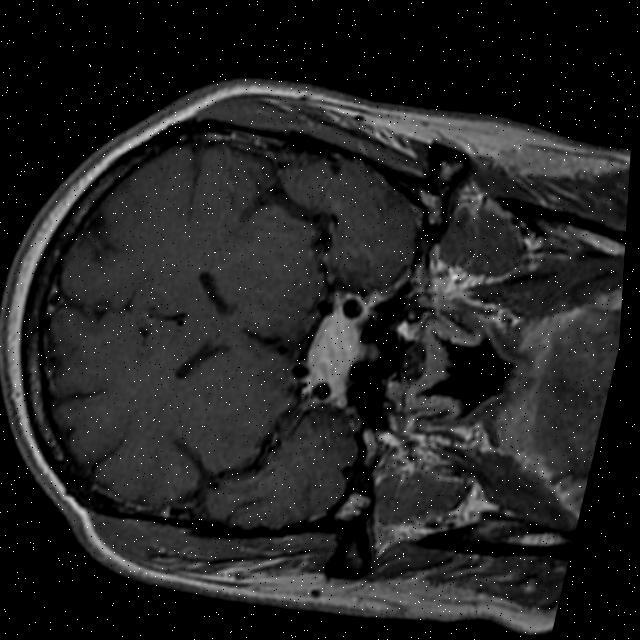Pituitary: (300, 309, 386, 389)
